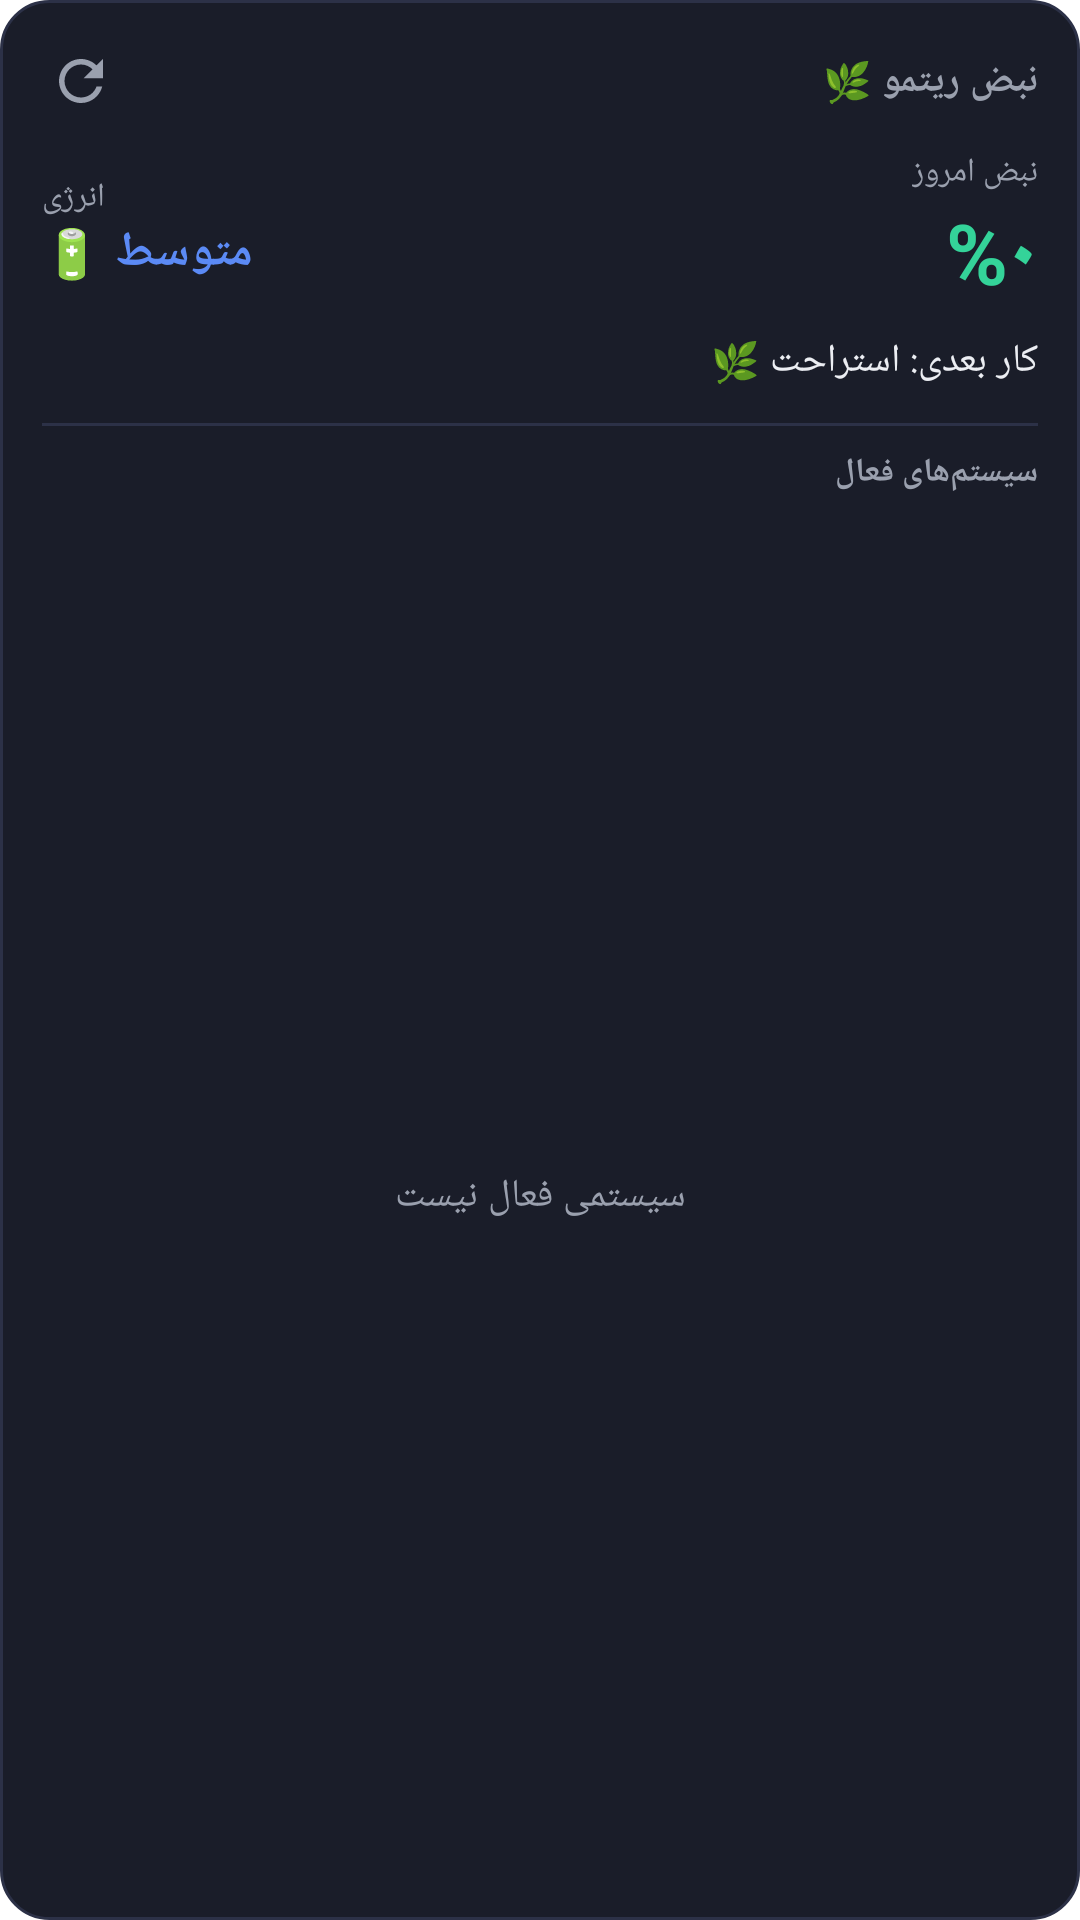

Screen size 1080px×1920px. Icon name, then its center in pixels as point (x, y):
بروزرسانی: point (81, 81)
